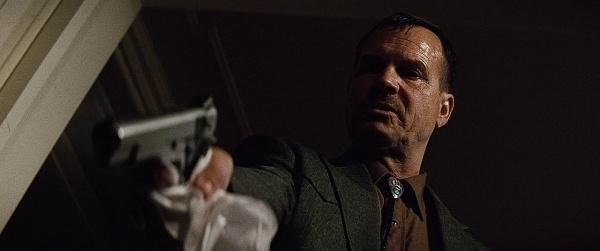Gun: (97, 98, 219, 183)
